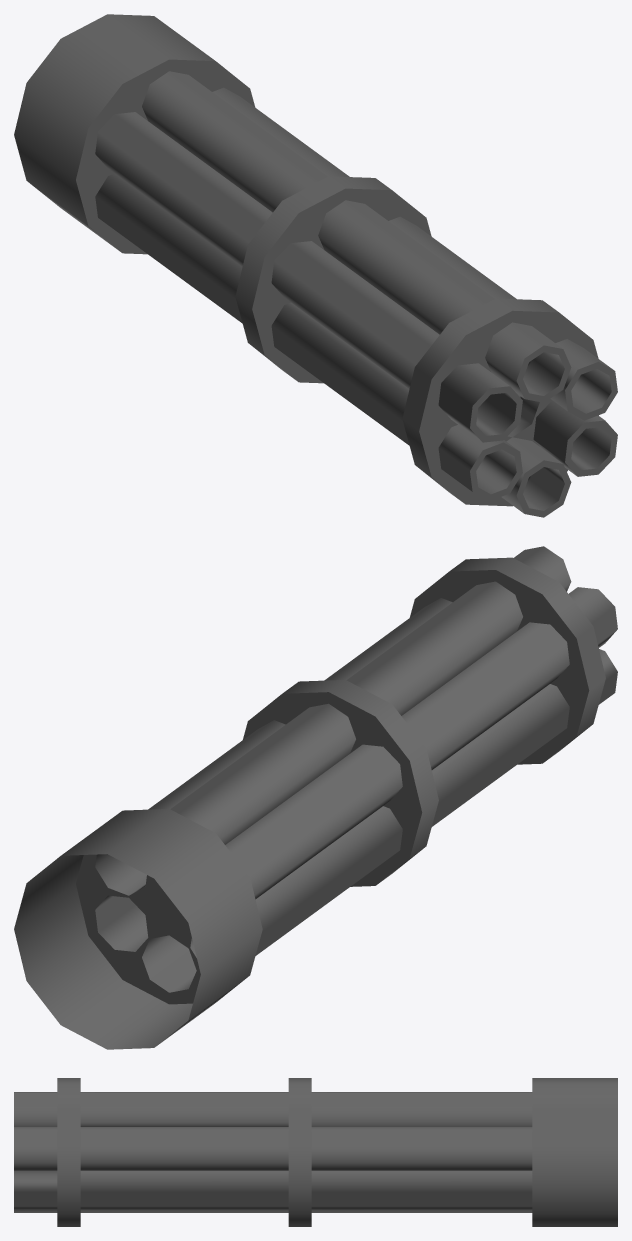
File: Minigun.fbx
3 views of the same model, one above another, from view 1: azimuth 30°, elevation 25°; view 2: azimuth 150°, elevation 25°; view 3: azimuth 270°, elevation 25° (orthographic). The views are drawn at different scales.
Parts seen in each view (by area): view 1: Minigun:Minigun1; view 2: Minigun:Minigun1; view 3: Minigun:Minigun1.
Boxes of the visible parts, <box> form: Minigun:Minigun1: <box>14,14,617,517</box>; Minigun:Minigun1: <box>14,546,617,1049</box>; Minigun:Minigun1: <box>14,1078,617,1226</box>.
Bounding box in the file's own units: 68.63 × 68.63 × 278.
